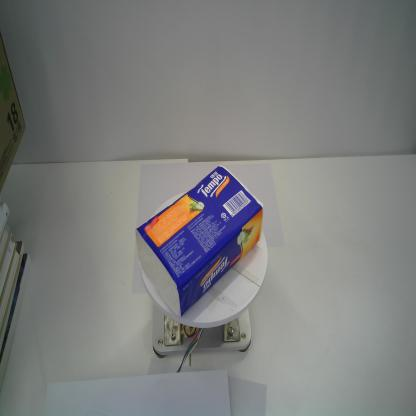Tissue: (132, 165, 264, 317)
